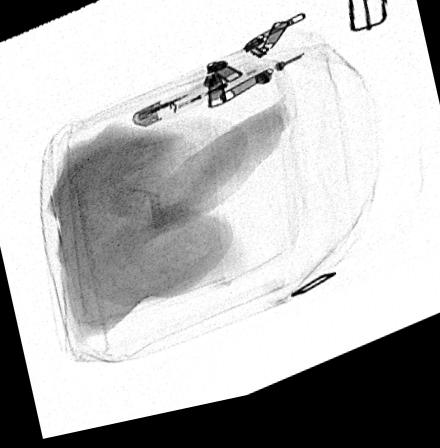Lighter: (132, 73, 259, 133)
